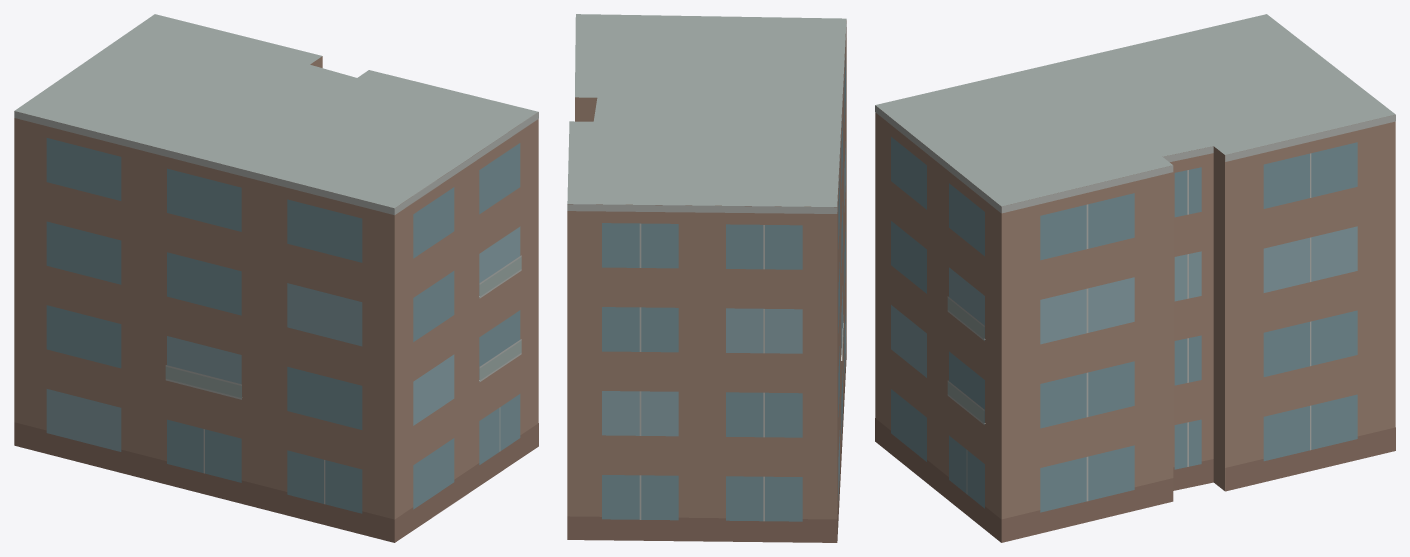
The model's file is survey-upis-32788214.glb.
3 renders of one model, left to right at view 1: azimuth 30°, elevation 25°; view 2: azimuth 150°, elevation 25°; view 3: azimuth 270°, elevation 25°, orthographic.
Parts seen in each view (by area): view 1: survey-upis-32788214.tmp; view 2: survey-upis-32788214.tmp; view 3: survey-upis-32788214.tmp.
Boxes of the visible parts, left/top/right/bottom form: survey-upis-32788214.tmp: left=14, top=14, right=538, bottom=542; survey-upis-32788214.tmp: left=567, top=14, right=846, bottom=542; survey-upis-32788214.tmp: left=875, top=14, right=1395, bottom=542.
Size of the model in its own units: 14.37 by 11.7 by 16.42.
